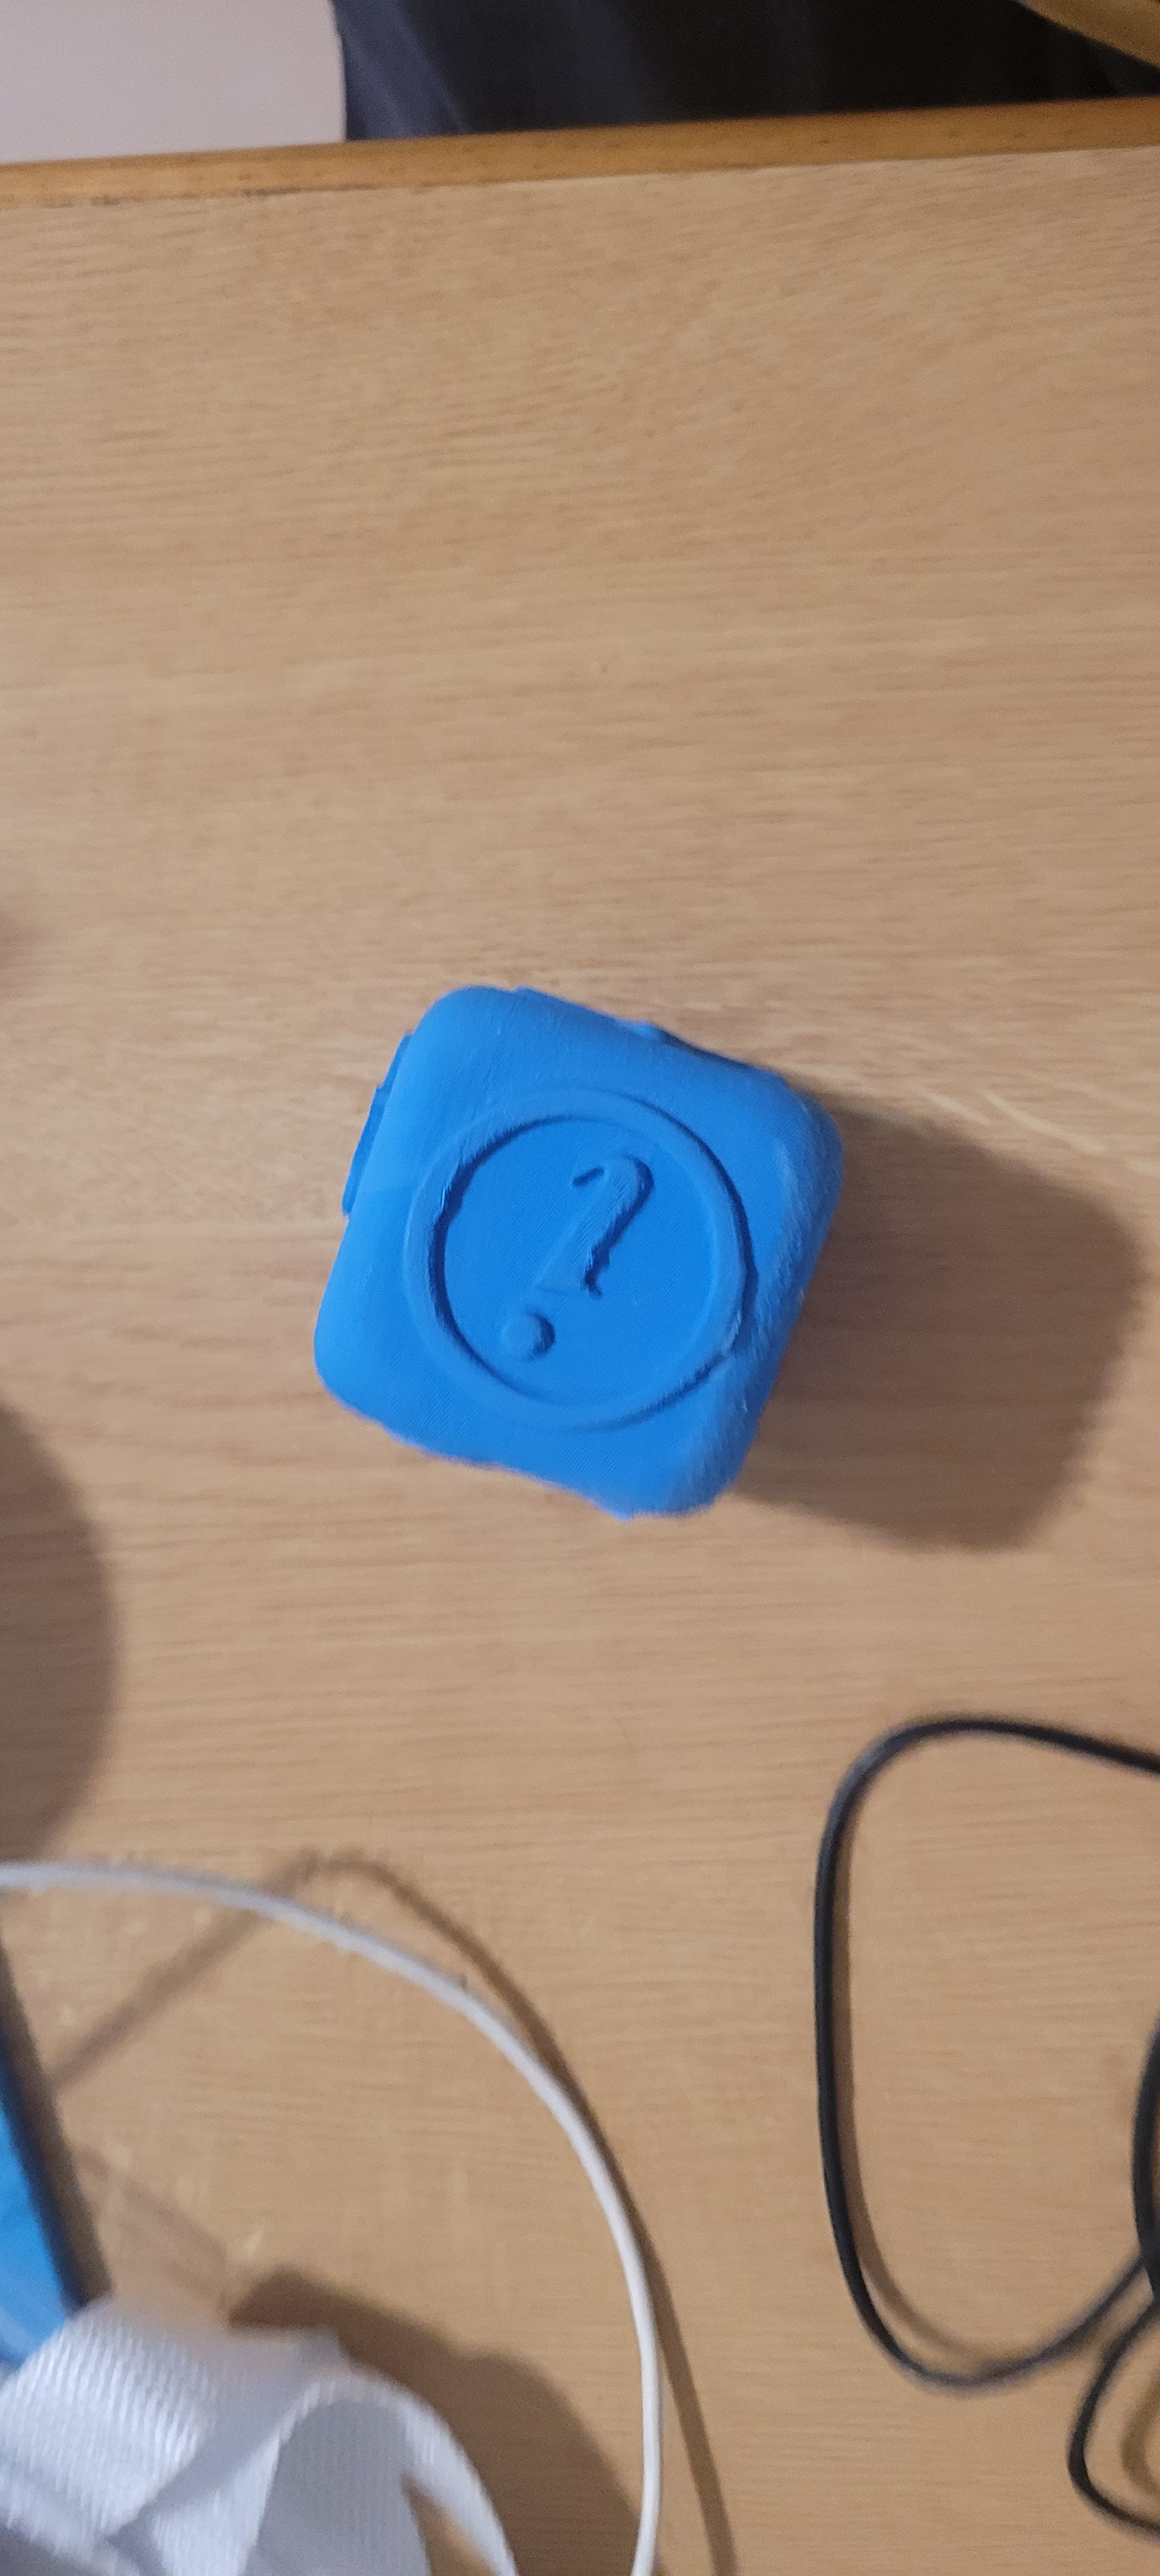Info: (366, 1125, 818, 1437)
